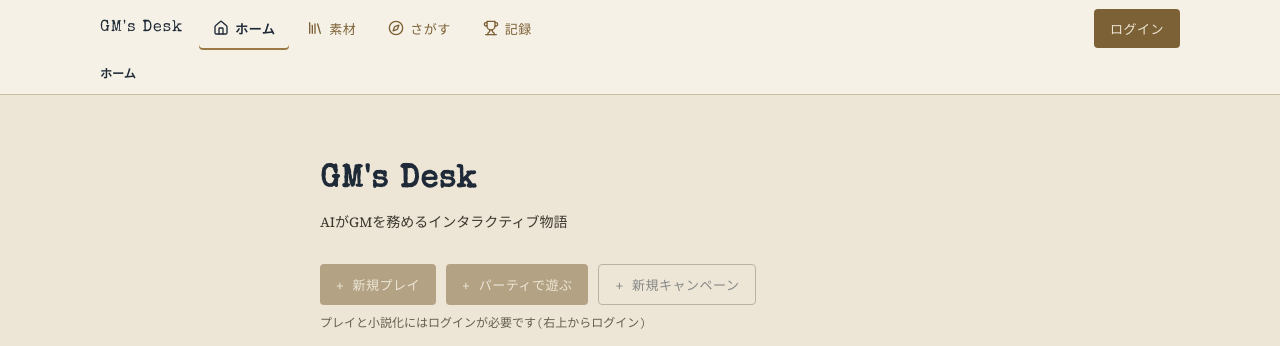
Test case: App › keeps the global nav visible on every browsing screen
Check: the navigation bar named "メインメニュー" is shown, box top-left (199, 6), bottom-right (546, 50)
Click the button "記録": (507, 28) top-left (469, 6), bottom-right (546, 50)
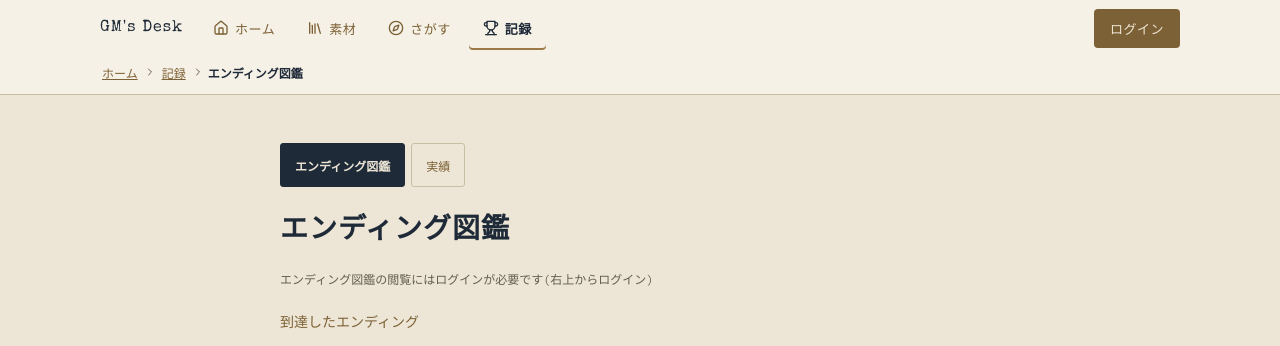
Check: the navigation bar named "メインメニュー" is shown, box top-left (199, 6), bottom-right (546, 50)
Check: the heading "エンディング図鑑" is shown, box top-left (280, 218), bottom-right (510, 246)
